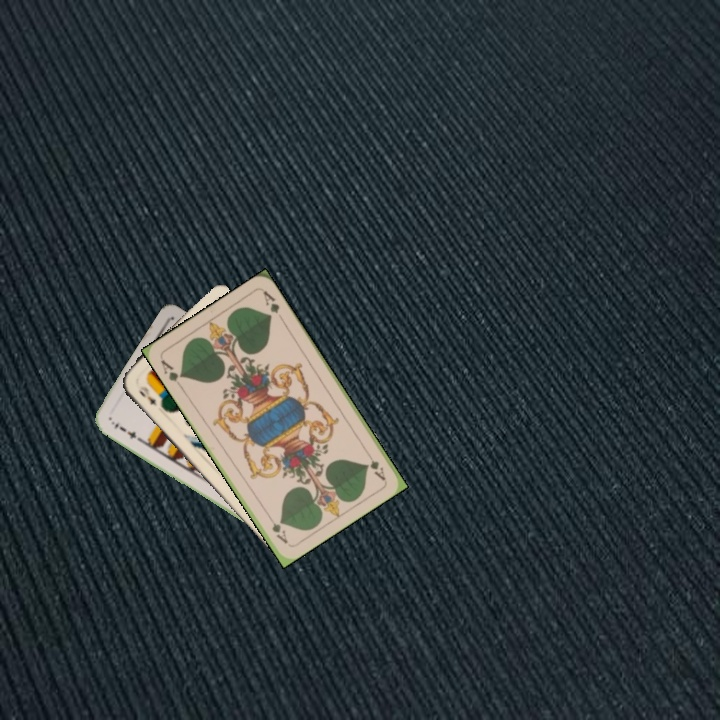E7: (107, 417, 143, 444)
EO: (135, 382, 160, 408)
GA: (156, 355, 186, 390), (362, 446, 388, 483)
